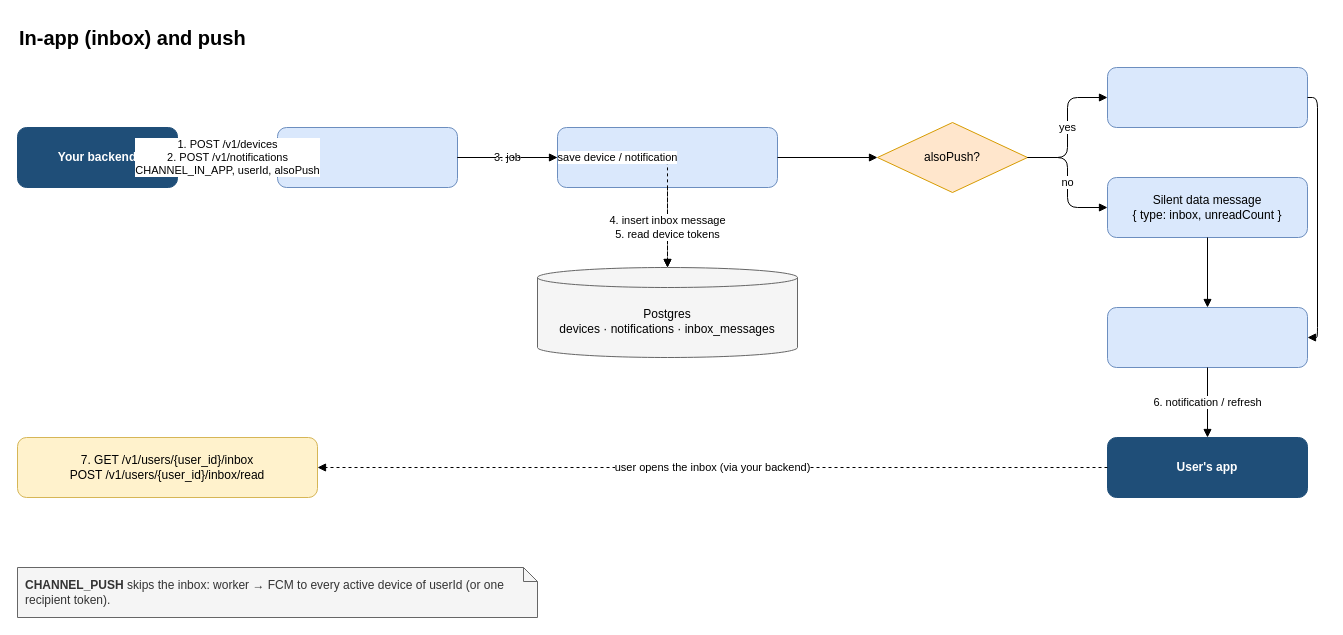
Image size: 1343x635. Some labels were removed from this diagram. Here are the shapes that lost their labels. From the top down, the box of each, then its label:
(1106, 66, 1308, 128): Visible push title + body + metadata
(276, 126, 458, 188): Hub API
(556, 126, 778, 188): Queue + worker notifications-in-app / -push
(1106, 306, 1308, 368): Firebase (FCM) tenant fcm provider
